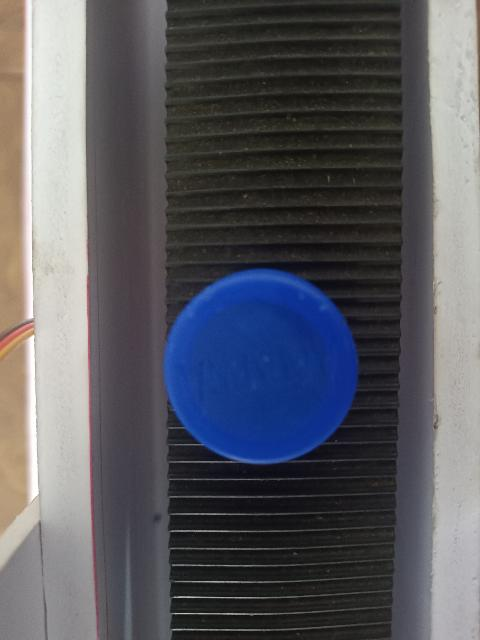bottlecap: (162, 264, 360, 466)
